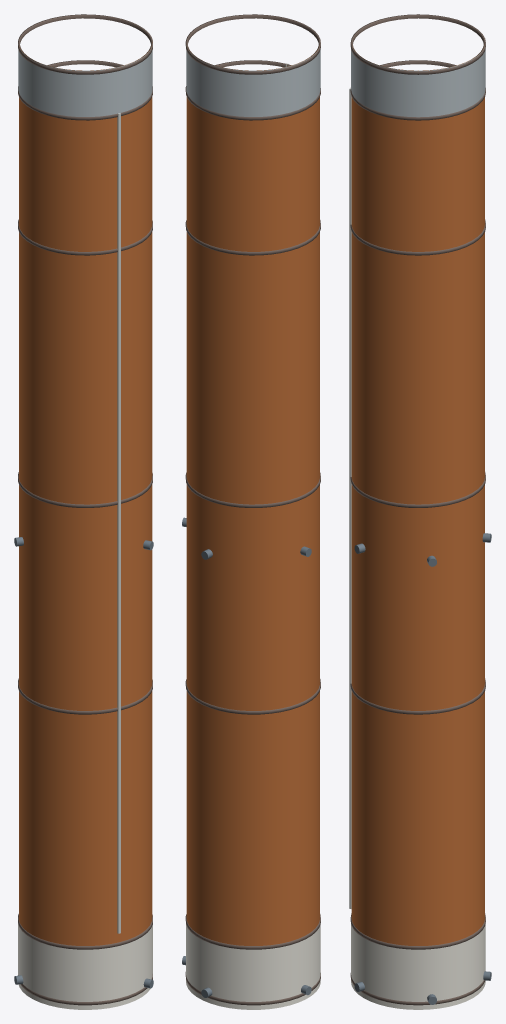
File: atlas_v_core_tank_section.glb
3 renders of one model, left to right at view 1: azimuth 30°, elevation 25°; view 2: azimuth 150°, elevation 25°; view 3: azimuth 270°, elevation 25°, orthographic.
Parts seen in each view (by area): view 1: atlas_v_coremesh_Spray-on_insulation, atlas_v_coremesh_Warm_white_enamel, atlas_v_coremesh_Satin_aluminum, atlas_v_coremesh_Heat-stained_alloy, atlas_v_coremesh_Pale_thermal_blanket, atlas_v_coremesh_Machined_steel; view 2: atlas_v_coremesh_Spray-on_insulation, atlas_v_coremesh_Warm_white_enamel, atlas_v_coremesh_Satin_aluminum, atlas_v_coremesh_Heat-stained_alloy, atlas_v_coremesh_Machined_steel; view 3: atlas_v_coremesh_Spray-on_insulation, atlas_v_coremesh_Warm_white_enamel, atlas_v_coremesh_Satin_aluminum, atlas_v_coremesh_Heat-stained_alloy, atlas_v_coremesh_Pale_thermal_blanket, atlas_v_coremesh_Machined_steel.
Part boxes in pixels (box(x1,y1,x2,y2)): atlas_v_coremesh_Spray-on_insulation: box(19, 42, 152, 945); atlas_v_coremesh_Warm_white_enamel: box(18, 923, 152, 1009); atlas_v_coremesh_Satin_aluminum: box(18, 44, 152, 116); atlas_v_coremesh_Heat-stained_alloy: box(18, 14, 152, 1005); atlas_v_coremesh_Pale_thermal_blanket: box(117, 113, 120, 933); atlas_v_coremesh_Machined_steel: box(14, 537, 153, 988); atlas_v_coremesh_Spray-on_insulation: box(186, 45, 319, 945); atlas_v_coremesh_Warm_white_enamel: box(186, 924, 320, 1009); atlas_v_coremesh_Satin_aluminum: box(186, 44, 320, 116); atlas_v_coremesh_Heat-stained_alloy: box(185, 14, 320, 1005); atlas_v_coremesh_Machined_steel: box(182, 517, 311, 997); atlas_v_coremesh_Spray-on_insulation: box(351, 44, 484, 945); atlas_v_coremesh_Warm_white_enamel: box(351, 924, 485, 1009); atlas_v_coremesh_Satin_aluminum: box(351, 43, 485, 117); atlas_v_coremesh_Heat-stained_alloy: box(350, 14, 485, 1005); atlas_v_coremesh_Pale_thermal_blanket: box(349, 88, 351, 908); atlas_v_coremesh_Machined_steel: box(354, 533, 491, 1004).
Size of the model in its own units: 4.18 by 29.56 by 4.06.
